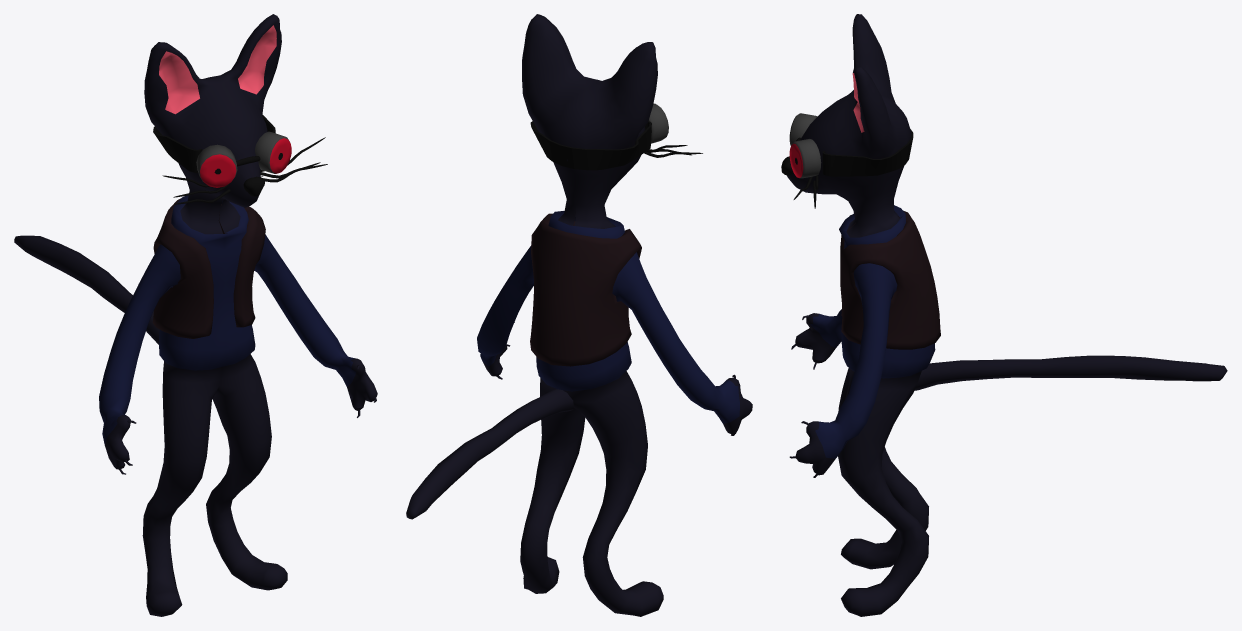
File: CAT_I.fbx
3 views of the same model, side by side, from view 1: azimuth 30°, elevation 25°; view 2: azimuth 150°, elevation 25°; view 3: azimuth 270°, elevation 25° (orthographic). The views are drawn at different scales.
Parts seen in each view (by area): view 1: CAT_I_001; view 2: CAT_I_001; view 3: CAT_I_001.
Boxes of the visible parts, x1,y1,x2,y2 form: CAT_I_001: (14,14,377,616); CAT_I_001: (406,14,752,616); CAT_I_001: (781,14,1227,616).
Size of the model in its own units: 0.2404 by 0.5058 by 0.3726.
